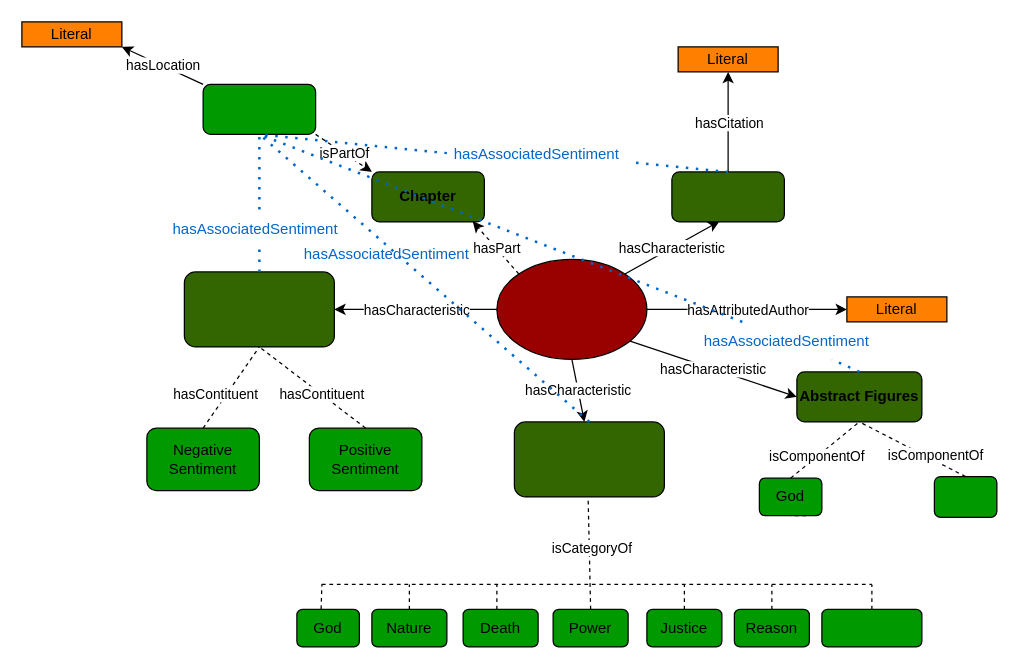
Some shapes in this 1019 by 669 pixel diagram are drawn without their labels. Here are the shapes that lost their labels. From the top down, the box of each, then its label:
(202, 83, 316, 134): Fragment
(671, 171, 784, 222): Agent Role
(183, 271, 334, 347): Sentiment
(496, 258, 647, 359): Literary diary
(513, 421, 664, 497): Concepts
(933, 475, 997, 517): Men
(821, 608, 922, 647): Psyche/body
